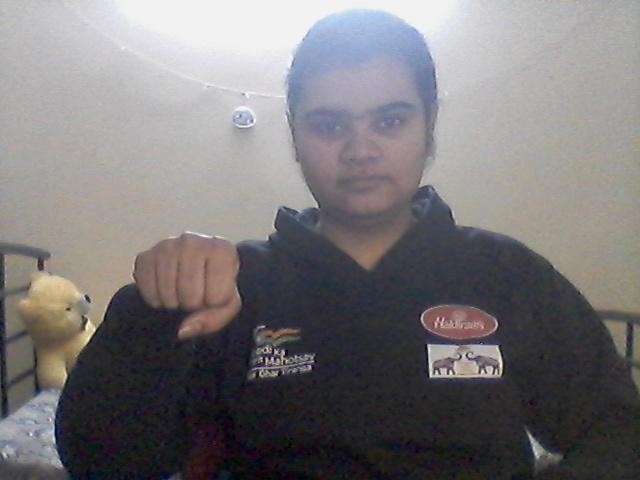yes: (131, 228, 246, 331)
